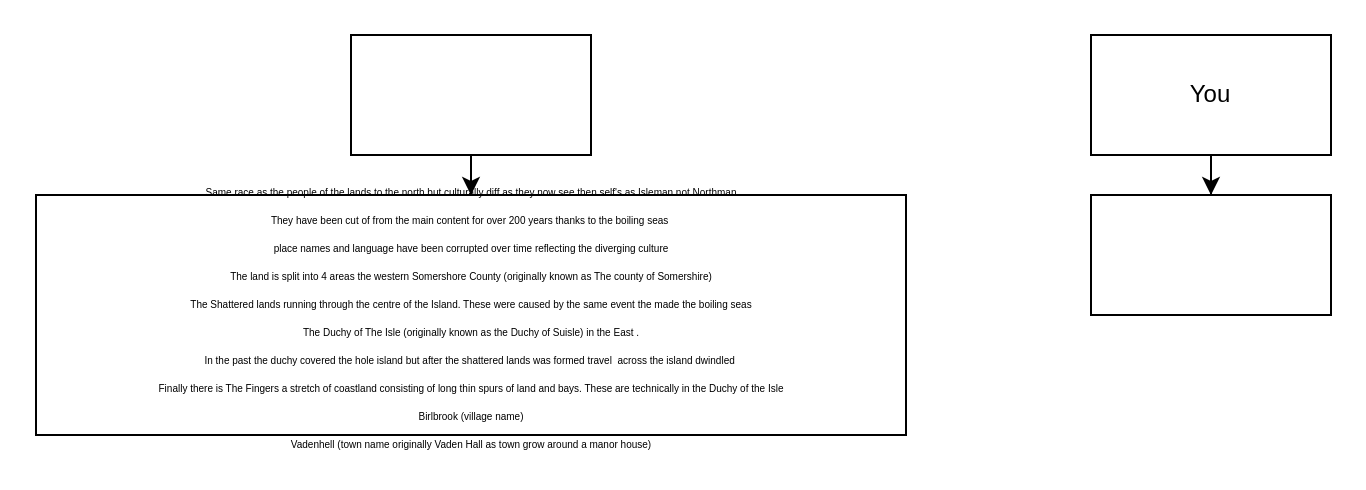
The diagram is 1366 pixels wide and 490 high, and some of its shapes have lost their labels. The shapes that lost their labels are listed below. From the top down, each one's centre as x and y in pixels, then its label:
At point 470,94: "The island".
At point 1210,254: "Your a Messenger you get payed for delivering messages".
